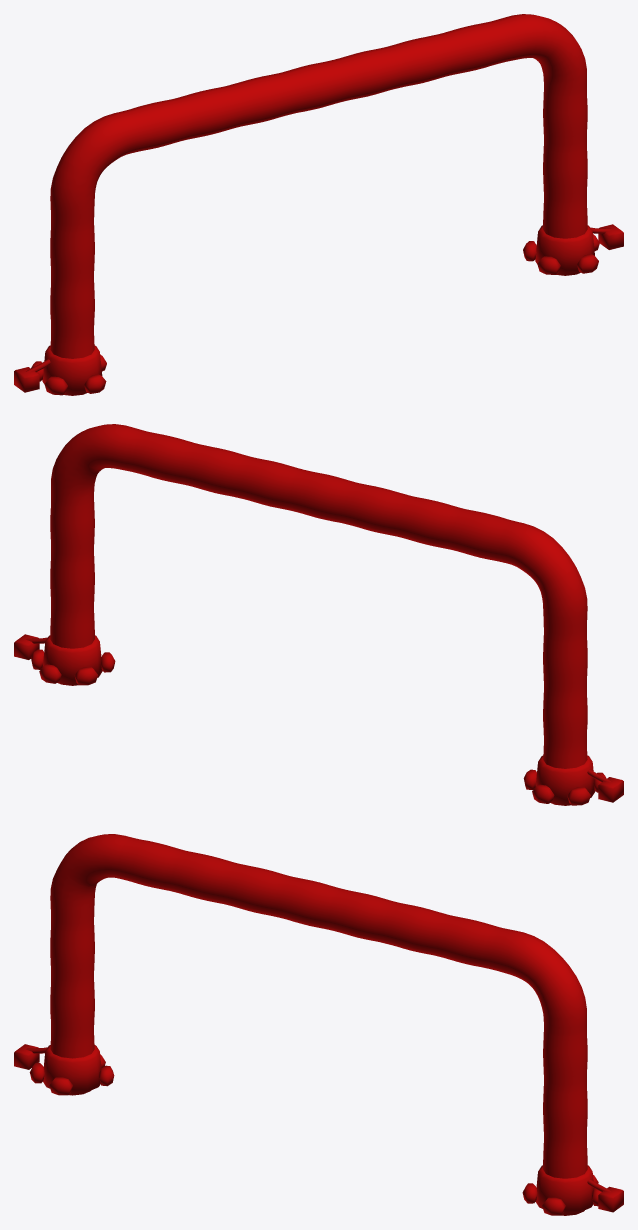
The model's file is start-arch.glb.
3 views of the same model, one above another, from view 1: azimuth 30°, elevation 25°; view 2: azimuth 150°, elevation 25°; view 3: azimuth 330°, elevation 25° (orthographic).
Visible parts, largest first — view 1: arch; view 2: arch; view 3: arch.
Boxes of the visible parts, bbox=[...] form: arch: bbox=[14, 14, 623, 395]; arch: bbox=[14, 424, 623, 805]; arch: bbox=[14, 834, 623, 1215].
Bounding box in the file's own units: 17.02 × 7.1 × 2.07.
